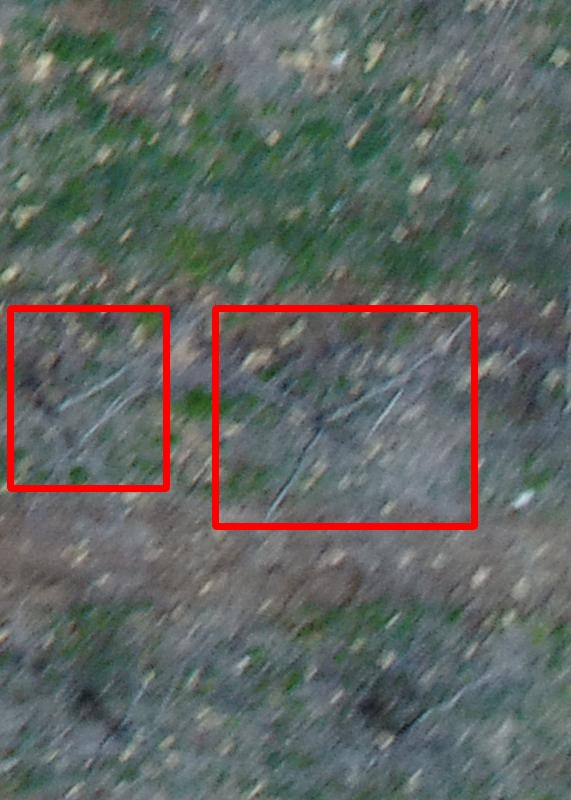apple: (215, 308, 474, 526), (10, 308, 166, 488)
